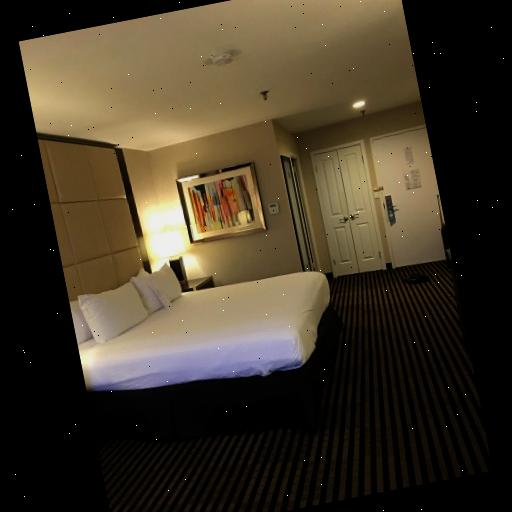clean_bed: (29, 134, 347, 444)
clean_floor: (102, 260, 493, 512)
organised_pillow: (67, 262, 189, 355)
